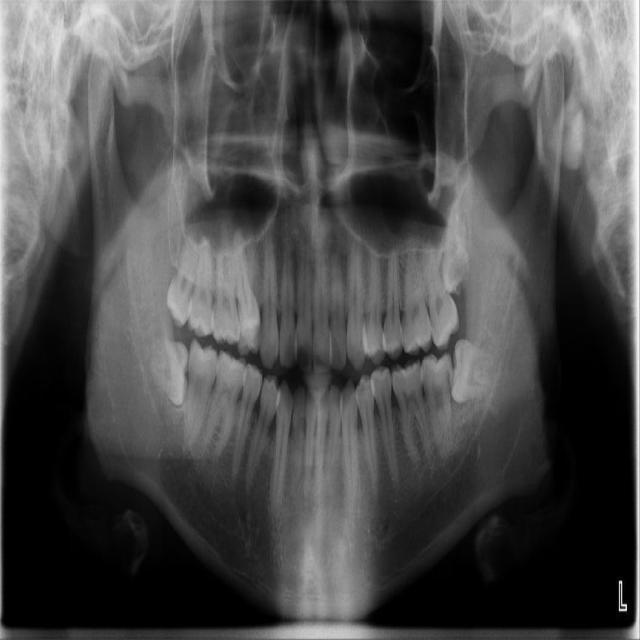Filling: (446, 370, 452, 392)
impacted tooth: (137, 339, 186, 403), (452, 342, 499, 402), (441, 202, 467, 292)
